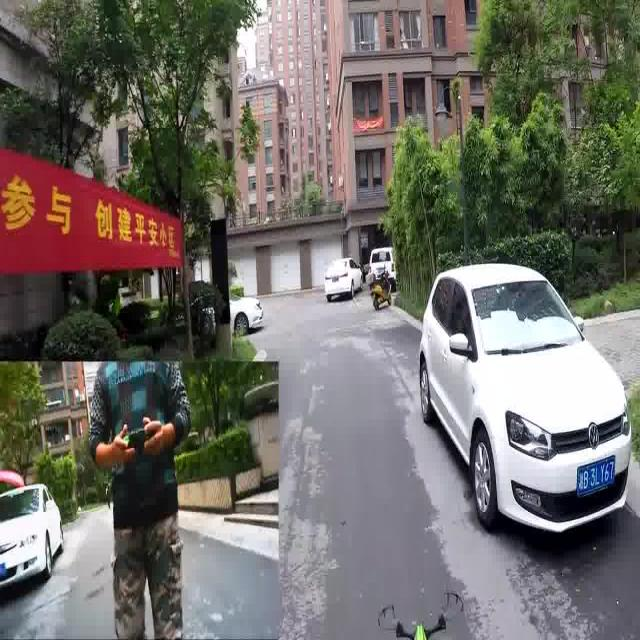drones: (372, 580, 469, 640)
